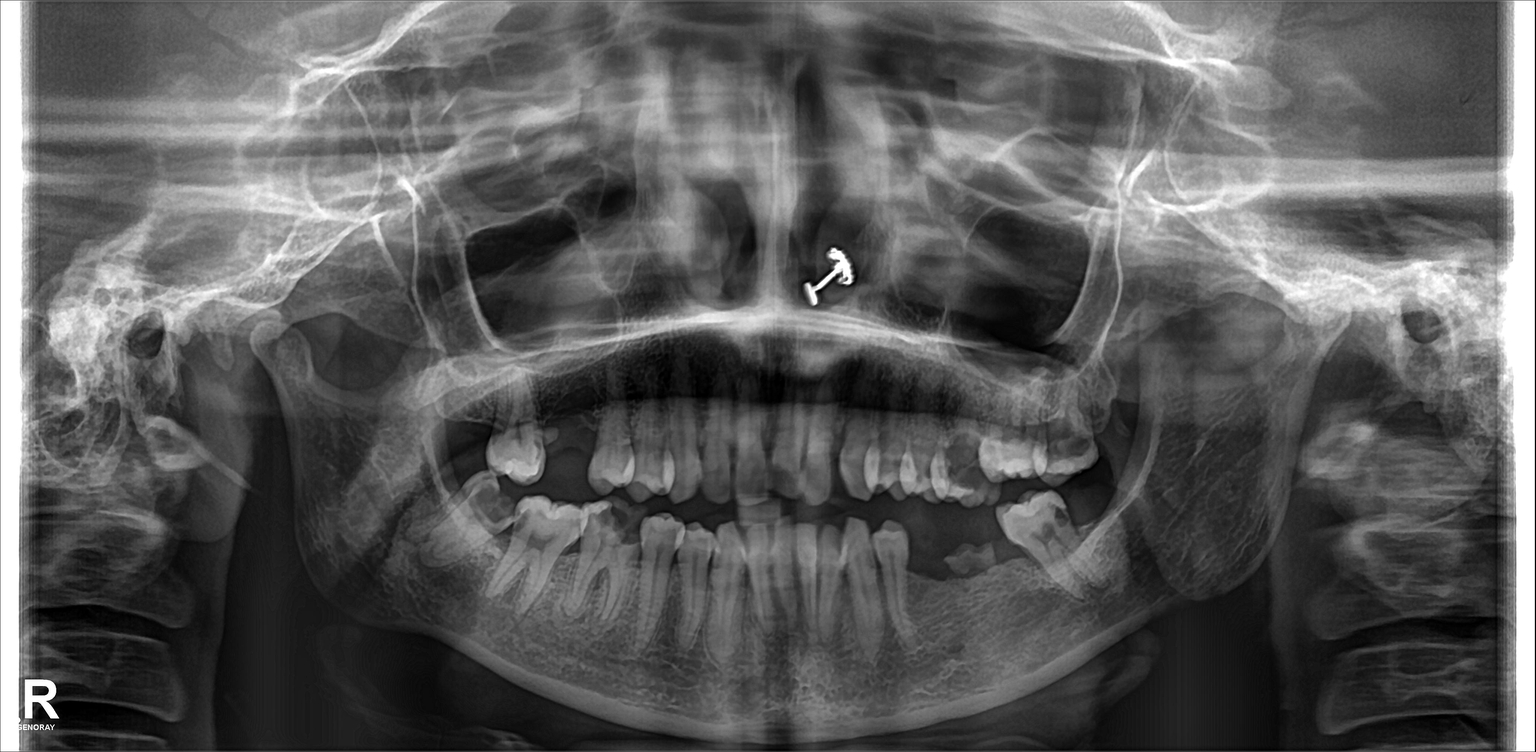Dental Caries: (590, 506, 648, 544), (939, 434, 983, 484), (471, 480, 511, 527), (745, 462, 797, 495), (1047, 426, 1085, 459)
Impacted Third Molar: (425, 495, 504, 562)
Missing Tooth: (546, 385, 591, 480), (1095, 363, 1138, 457), (453, 382, 493, 469), (911, 529, 940, 617), (1071, 490, 1114, 544)
Retained Root: (940, 523, 1001, 609)
